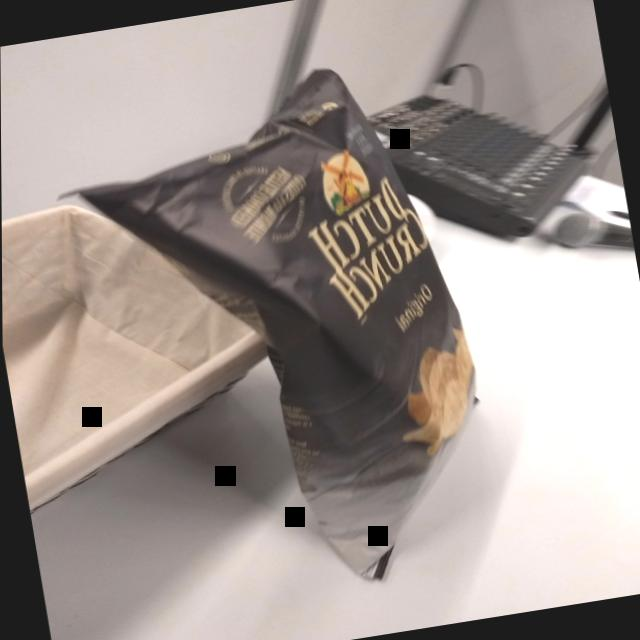potato_chips: (39, 46, 517, 627)
